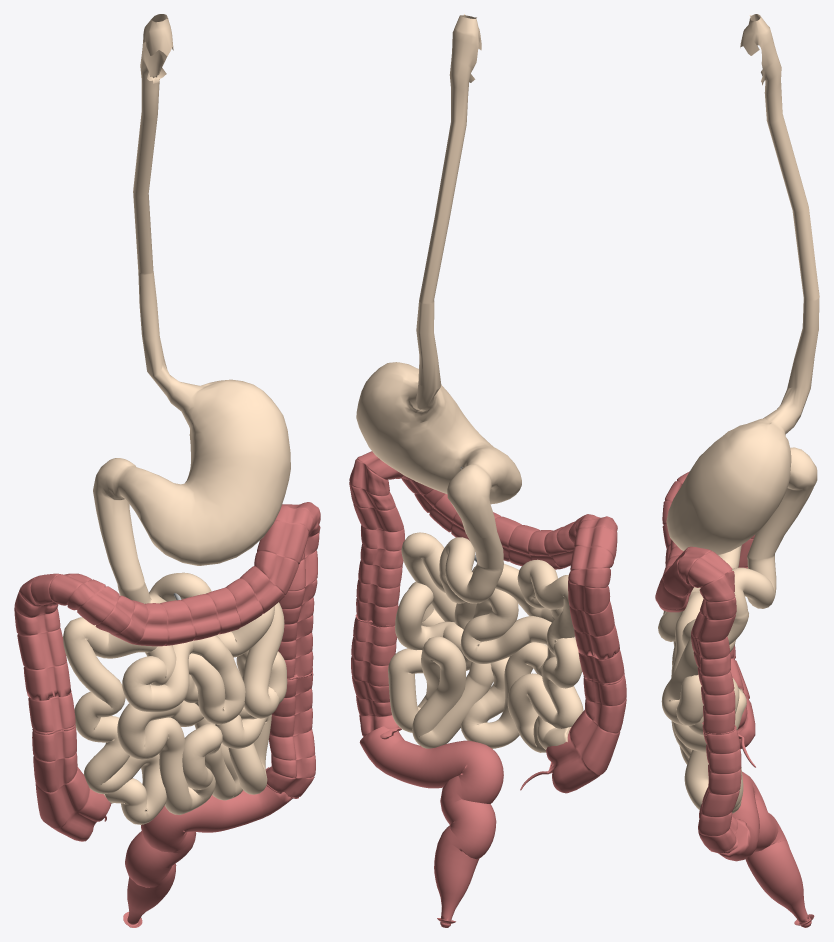
The model's file is esophagus.glb.
3 views of the same model, side by side, from view 1: azimuth 30°, elevation 25°; view 2: azimuth 150°, elevation 25°; view 3: azimuth 270°, elevation 25° (orthographic). The views are drawn at different scales.
Visible parts, largest first — view 1: Digestivo_obj_cleaner; view 2: Digestivo_obj_cleaner; view 3: Digestivo_obj_cleaner.
Boxes of the visible parts, bbox=[...] form: Digestivo_obj_cleaner: bbox=[14, 14, 320, 927]; Digestivo_obj_cleaner: bbox=[349, 14, 626, 927]; Digestivo_obj_cleaner: bbox=[655, 14, 819, 927].
Bounding box in the file's own units: 0.9551 × 3 × 0.4894.
